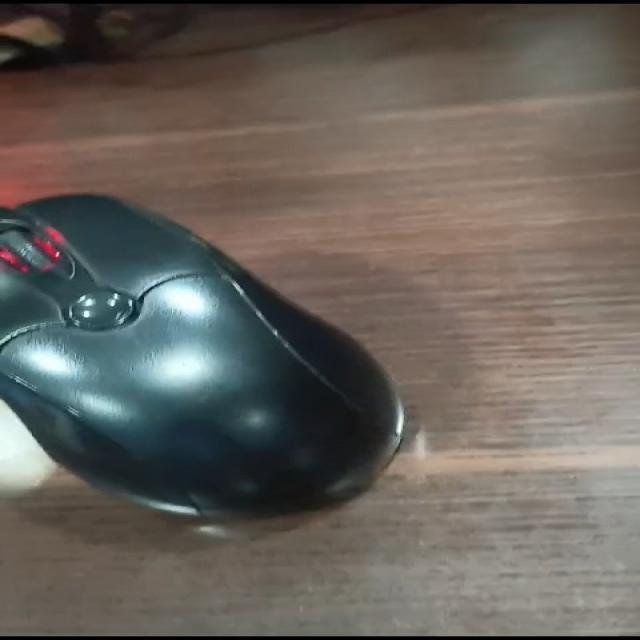Mouse: (0, 160, 470, 546)
